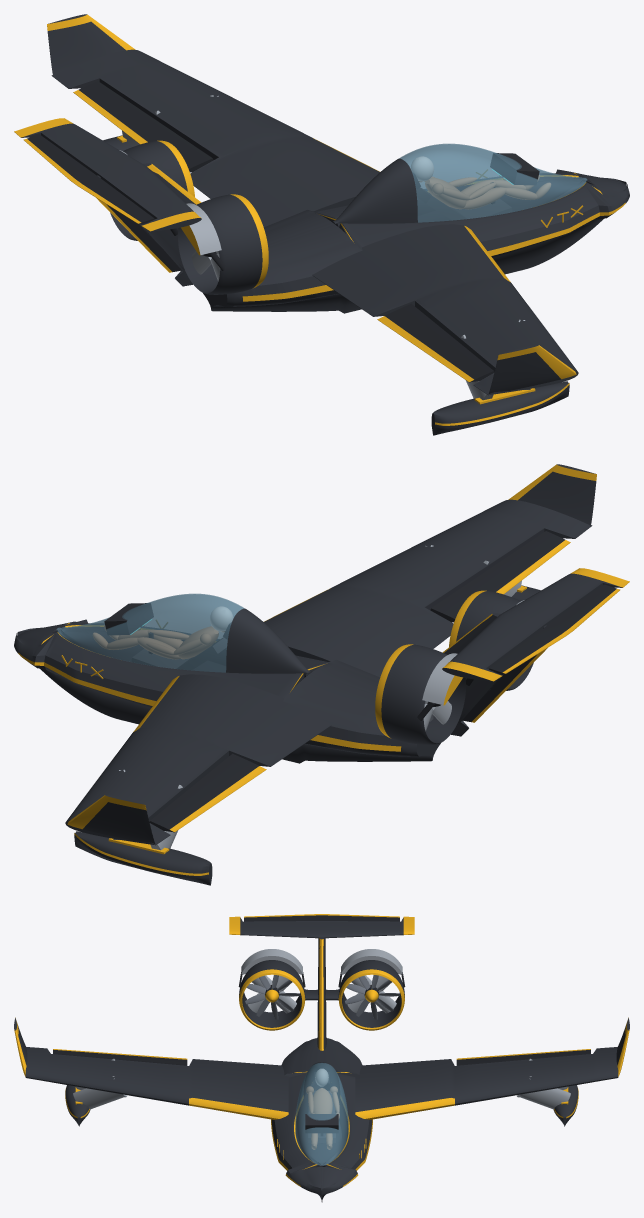
File: A_continuous__reclined_50.glb
The picture shows the model from 3 angles, top to bottom: view 1: azimuth 30°, elevation 25°; view 2: azimuth 150°, elevation 25°; view 3: azimuth 270°, elevation 25°; orthographic projection. The views are drawn at different scales.
Parts seen in each view (by area): view 1: Ricochet_Wing_Port, Ricochet_ConceptA_Hull_Cabin, Ricochet_Wing_Stbd, Ricochet_Canopy_Glass, Ricochet_Tail_Pylon_T_Tail, Ricochet_Duct_Stbd, Ricochet_Aileron_Port, Ricochet_Aileron_Stbd, Ricochet_Sponson_Stbd, Ricochet_Winglet_Port, Study_Pilot_Manikin, Ricochet_Winglet_Stbd (+5 smaller); view 2: Ricochet_Wing_Stbd, Ricochet_ConceptA_Hull_Cabin, Ricochet_Wing_Port, Ricochet_Canopy_Glass, Ricochet_Tail_Pylon_T_Tail, Ricochet_Duct_Port, Ricochet_Aileron_Stbd, Ricochet_Aileron_Port, Ricochet_Sponson_Port, Ricochet_Winglet_Stbd, Study_Pilot_Manikin, Ricochet_Winglet_Port (+5 smaller); view 3: Ricochet_Wing_Port, Ricochet_Wing_Stbd, Ricochet_ConceptA_Hull_Cabin, Ricochet_Tail_Pylon_T_Tail, Ricochet_Canopy_Glass, Ricochet_Duct_Port, Ricochet_Duct_Stbd, Study_Pilot_Manikin, Ricochet_Elevator, Ricochet_Aileron_Port, Ricochet_Aileron_Stbd, Ricochet_Fan_Rotor_Port (+8 smaller).
Part boxes in pixels (x1,y1,x2,y2): Ricochet_Wing_Port: (51,49,379,227); Ricochet_ConceptA_Hull_Cabin: (203,169,629,313); Ricochet_Wing_Stbd: (312,224,578,395); Ricochet_Canopy_Glass: (332,143,587,223); Ricochet_Tail_Pylon_T_Tail: (14,118,201,286); Ricochet_Duct_Stbd: (178,194,268,294); Ricochet_Aileron_Port: (73,81,213,172); Ricochet_Aileron_Stbd: (377,303,494,382); Ricochet_Sponson_Stbd: (431,381,569,435); Ricochet_Winglet_Port: (47,14,135,75); Study_Pilot_Manikin: (411,156,550,209); Ricochet_Winglet_Stbd: (488,345,576,394); Ricochet_Wing_Stbd: (264,499,592,677); Ricochet_ConceptA_Hull_Cabin: (14,619,440,763); Ricochet_Wing_Port: (65,674,331,845); Ricochet_Canopy_Glass: (56,593,311,673); Ricochet_Tail_Pylon_T_Tail: (442,568,629,736); Ricochet_Duct_Port: (375,644,465,744); Ricochet_Aileron_Stbd: (430,531,570,622); Ricochet_Aileron_Port: (149,753,266,832); Ricochet_Sponson_Port: (74,831,212,885); Ricochet_Winglet_Stbd: (508,464,596,525); Study_Pilot_Manikin: (93,606,232,659); Ricochet_Winglet_Port: (67,795,155,844); Ricochet_Wing_Port: (355,1047,618,1119); Ricochet_Wing_Stbd: (25,1047,288,1119); Ricochet_ConceptA_Hull_Cabin: (271,1038,372,1202); Ricochet_Tail_Pylon_T_Tail: (229,916,414,1050); Ricochet_Canopy_Glass: (295,1062,348,1165); Ricochet_Duct_Port: (338,960,404,1030); Ricochet_Duct_Stbd: (239,960,305,1030); Study_Pilot_Manikin: (306,1069,339,1149); Ricochet_Elevator: (244,914,399,921); Ricochet_Aileron_Port: (456,1049,590,1065); Ricochet_Aileron_Stbd: (53,1049,187,1065); Ricochet_Fan_Rotor_Port: (345,975,399,1019).
Size of the model in its own units: 6.78 by 2.34 by 9.64.
